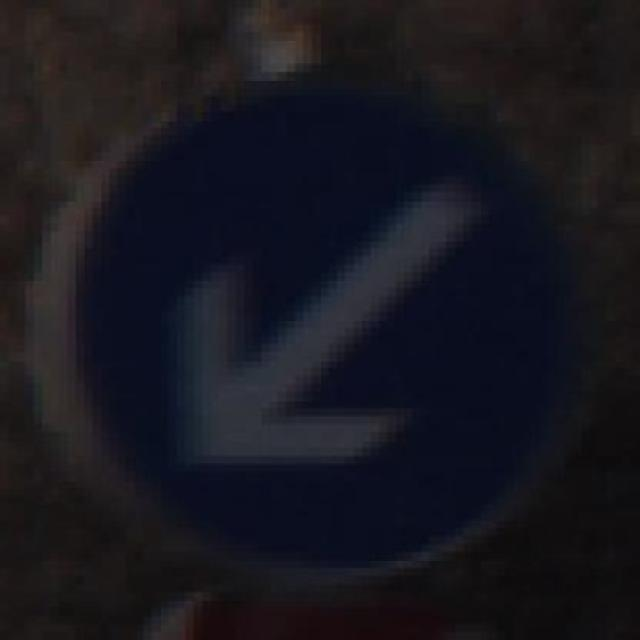Keep-Left: (59, 56, 582, 576)
